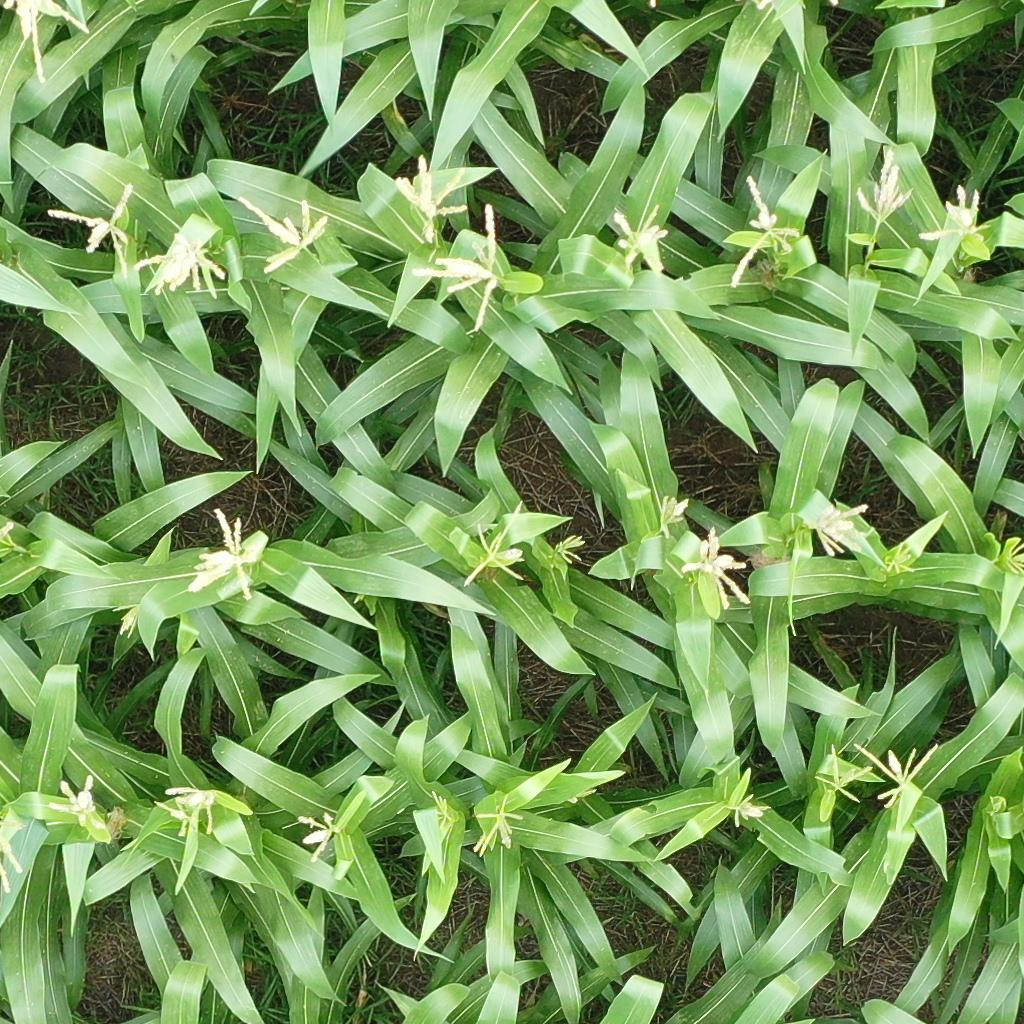Tassel: (408, 201, 506, 339), (723, 174, 803, 290), (45, 182, 136, 280), (237, 194, 331, 276), (2, 1, 93, 84), (187, 508, 259, 603), (394, 156, 468, 244), (130, 235, 230, 298), (679, 526, 752, 612), (463, 498, 529, 591), (855, 740, 941, 811), (610, 208, 674, 278), (919, 179, 986, 244), (856, 149, 914, 224), (154, 784, 224, 844), (808, 501, 871, 563), (813, 743, 873, 803), (49, 772, 106, 832), (470, 797, 522, 857), (294, 810, 340, 861), (657, 493, 691, 544), (731, 793, 770, 831), (1, 834, 22, 891), (113, 603, 144, 641), (427, 791, 456, 830), (554, 531, 587, 565), (886, 541, 917, 577), (1003, 540, 1024, 574), (989, 794, 1005, 816)
